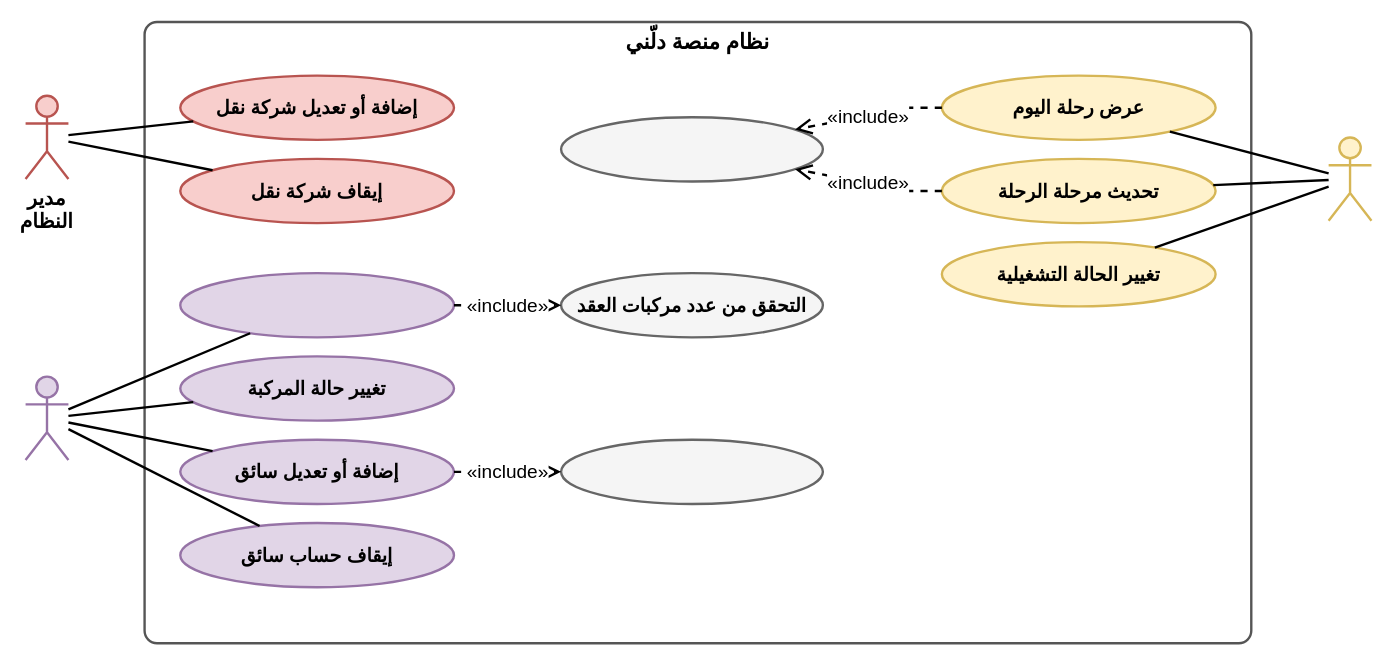
This 1399x664 diagram has some shape labels left out. Here are the shapes that lost their labels. From the top down, the centre of each, then its label:
At (x=691, y=148): "التحقق من أن المركبة تعمل اليوم".
At (x=1349, y=178): "السائق".
At (x=316, y=304): "إضافة أو تعديل مركبة".
At (x=46, y=418): "شركة النقل".
At (x=691, y=471): "ربط السائق بمركبة من نفس الشركة".
